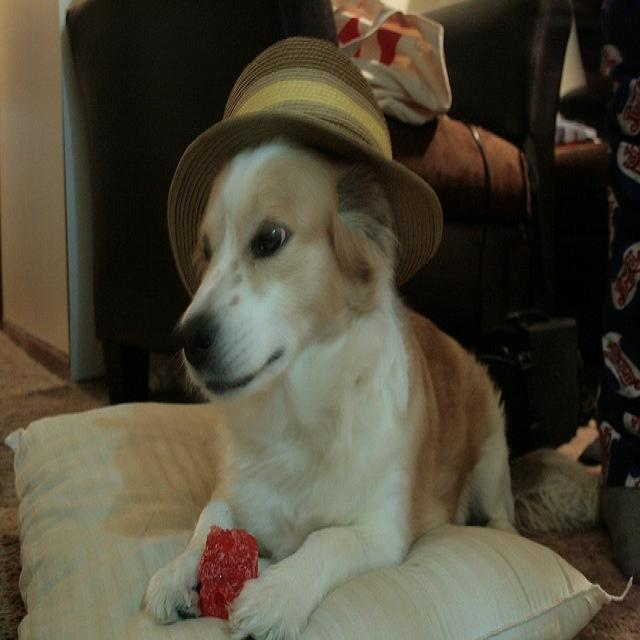dog: (131, 141, 609, 628)
